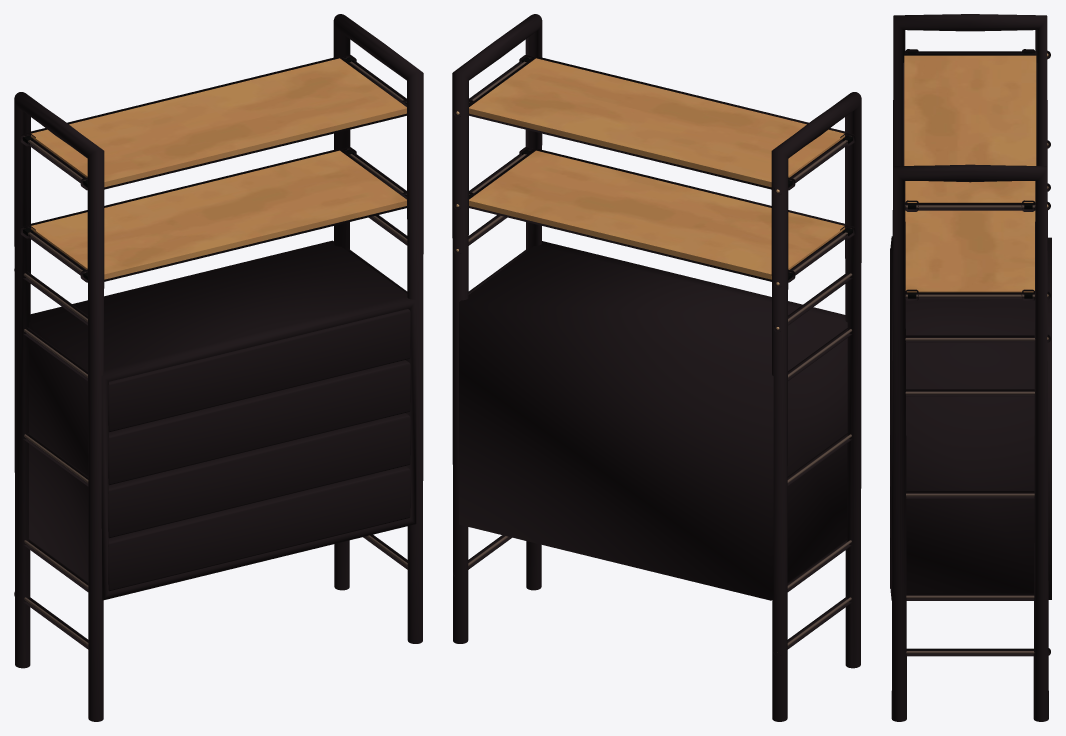
Rendered from SM_Int_Drawers.fbx.
The picture shows the model from 3 angles, left to right: view 1: azimuth 30°, elevation 25°; view 2: azimuth 150°, elevation 25°; view 3: azimuth 270°, elevation 25°; orthographic projection. The views are drawn at different scales.
Parts seen in each view (by area): view 1: SM_Int_Drawers; view 2: SM_Int_Drawers; view 3: SM_Int_Drawers.
Boxes of the visible parts, left/top/right/bottom form: SM_Int_Drawers: left=14, top=14, right=423, bottom=721; SM_Int_Drawers: left=452, top=14, right=861, bottom=721; SM_Int_Drawers: left=890, top=14, right=1051, bottom=721.
Size of what is drawn, in the model's own units: 1.16 by 1.89 by 0.5005.
